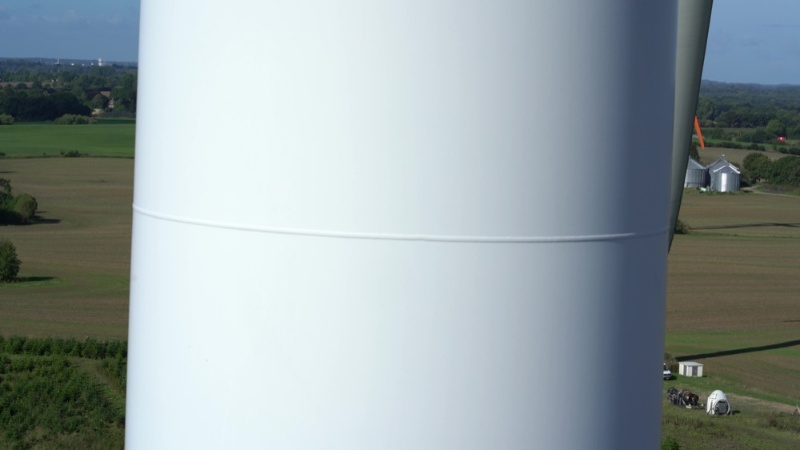weldseam: (130, 200, 670, 250)
